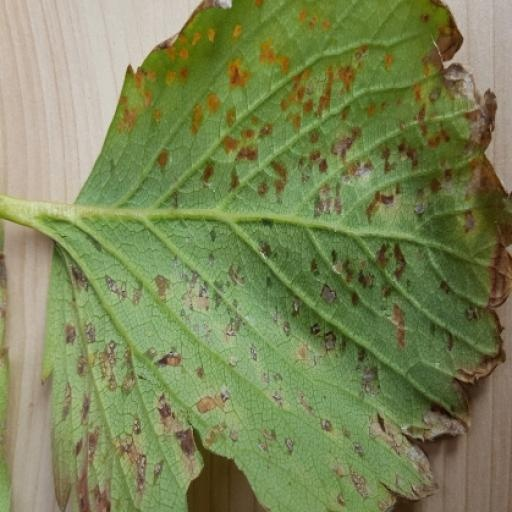Angular Leafspot: (40, 0, 511, 511)
